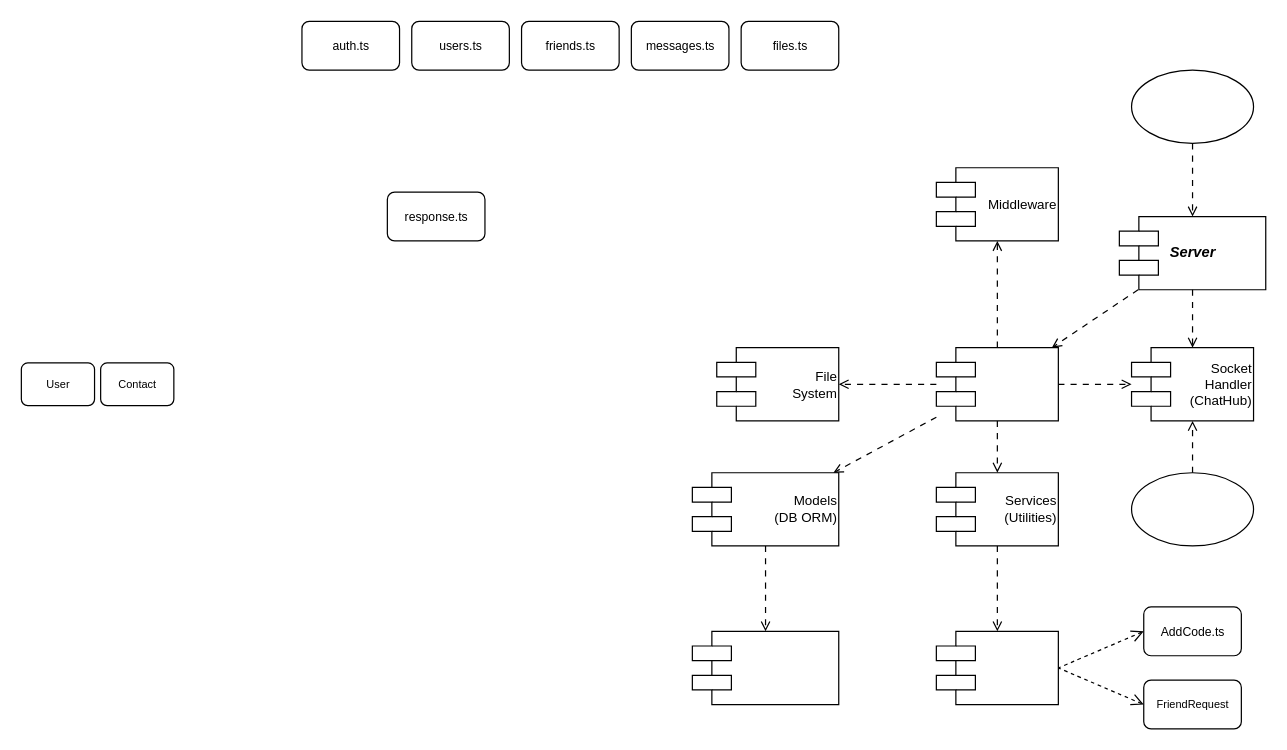
The diagram is 1287 pixels wide and 750 high, and some of its shapes have lost their labels. Here are the shapes that lost their labels. From the top down, the centre of each, then its label:
At point 1192,106: "HTTP Client".
At point 996,383: "Route Handlers (Controller)".
At point 1192,509: "WebSocket Client".
At point 765,667: "Data Storage (DB)".
At point 996,667: "Global Scope".
